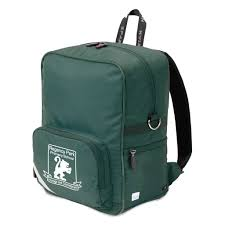bag: (30, 7, 193, 217)
